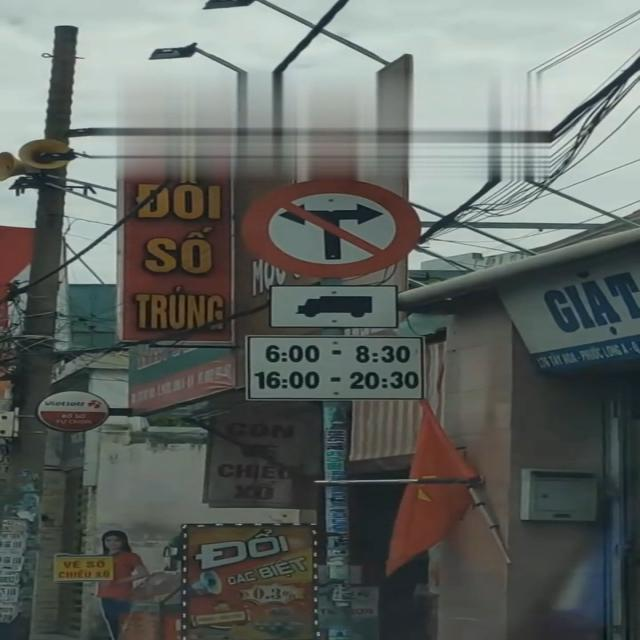137-cam-re-trai-va-re-phai: (244, 175, 418, 273)
